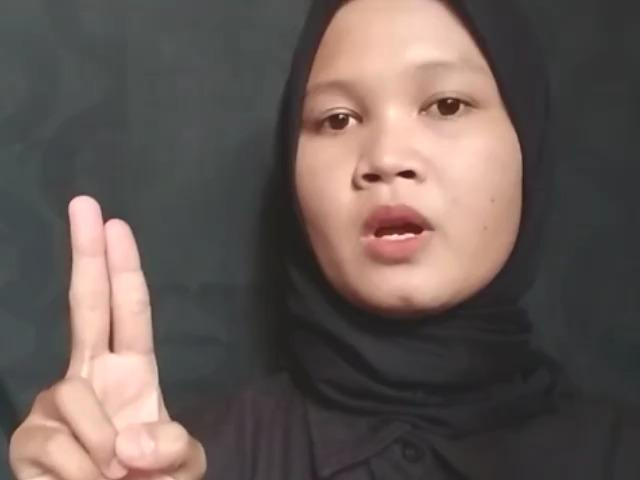U: (1, 188, 208, 480)
